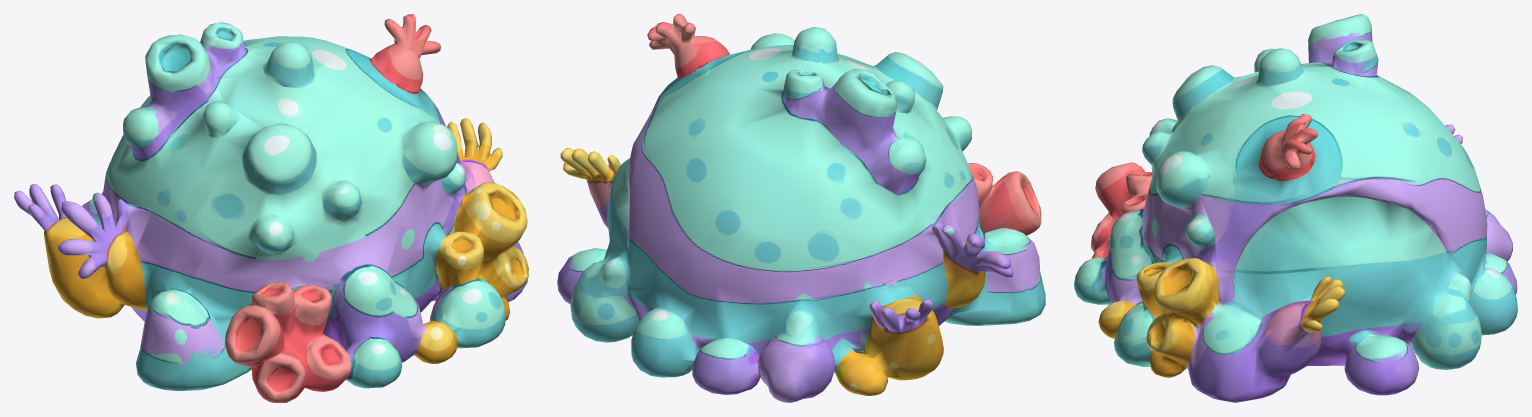
Rendered from static.glb.
3 views of the same model, side by side, from view 1: azimuth 30°, elevation 25°; view 2: azimuth 150°, elevation 25°; view 3: azimuth 270°, elevation 25° (orthographic). The views are drawn at different scales.
Parts seen in each view (by area): view 1: Mesh_0; view 2: Mesh_0; view 3: Mesh_0.
Part boxes in pixels (box(x1,y1,x2,y2)): Mesh_0: box(14, 14, 528, 402); Mesh_0: box(557, 14, 1045, 402); Mesh_0: box(1074, 14, 1517, 402).
Size of the model in its own units: 1.9 by 1.1 by 1.73.
Materials: 1 (1 with a texture image).
